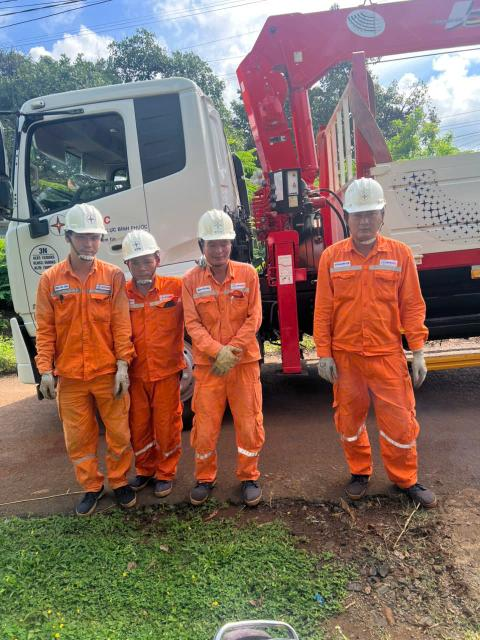gloves: (398, 342, 442, 393), (207, 345, 252, 378), (309, 353, 348, 389), (108, 358, 137, 395), (33, 374, 70, 403)
helmet: (192, 205, 256, 250), (117, 222, 176, 265), (53, 202, 111, 245), (339, 178, 393, 218)
shoes: (389, 463, 448, 512), (187, 466, 223, 513), (240, 466, 272, 516), (73, 482, 108, 525), (342, 460, 376, 503), (151, 472, 178, 514), (112, 483, 138, 517), (132, 467, 153, 495)
